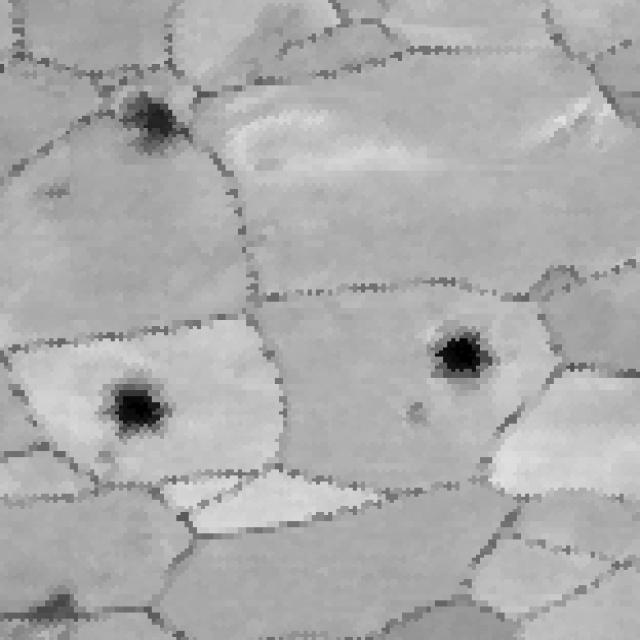good_void: (94, 376, 190, 443), (422, 312, 515, 380), (117, 95, 194, 155), (26, 586, 111, 628), (392, 391, 437, 427), (36, 173, 80, 204), (83, 442, 123, 471)
